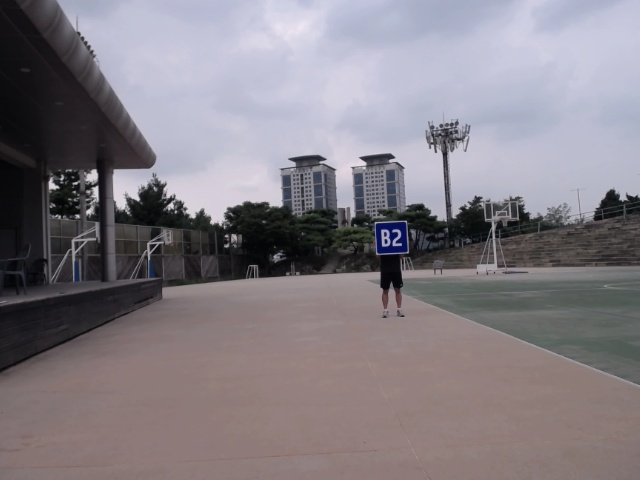delivery_b2: (374, 220, 411, 255)
